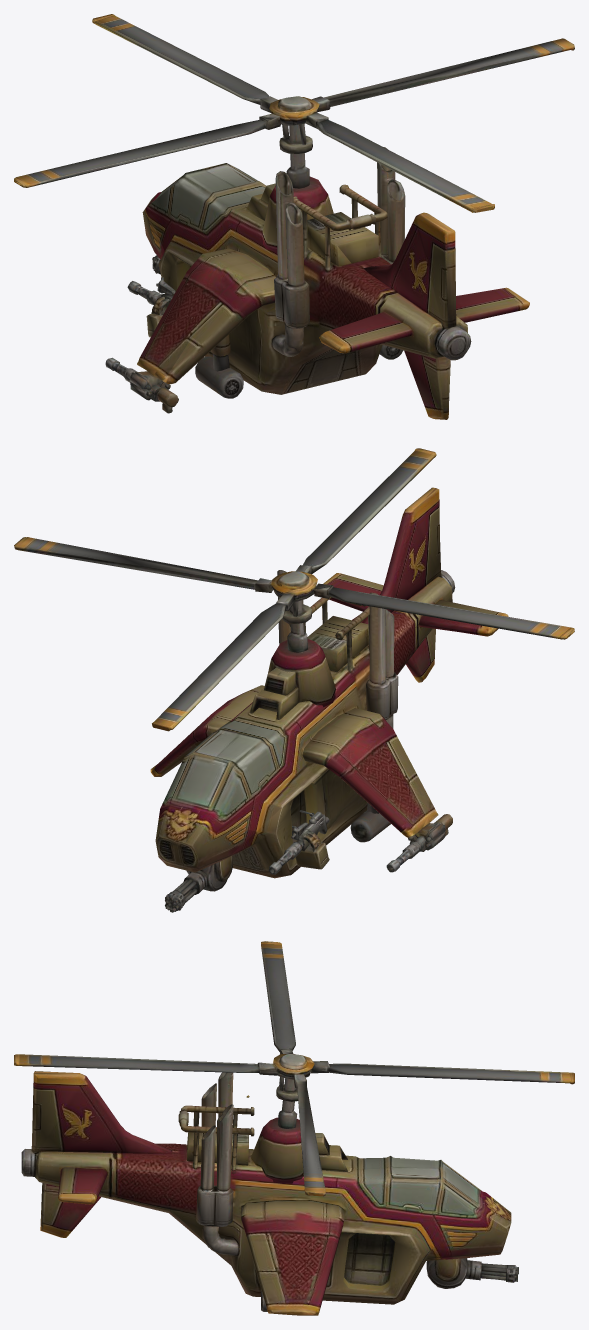
File: bullion_truck.glb
3 renders of one model, top to bottom at view 1: azimuth 30°, elevation 25°; view 2: azimuth 150°, elevation 25°; view 3: azimuth 270°, elevation 25°, orthographic. The views are drawn at different scales.
Parts seen in each view (by area): view 1: Body, Trim; view 2: Body, Trim; view 3: Body, Trim.
Part boxes in pixels (bbox=[...]): Body: bbox=[14, 14, 574, 419]; Trim: bbox=[14, 14, 574, 419]; Body: bbox=[14, 448, 574, 912]; Trim: bbox=[150, 450, 574, 854]; Body: bbox=[14, 941, 574, 1315]; Trim: bbox=[14, 941, 574, 1315].
Size of the model in its own units: 10.87 by 5.1 by 11.
Materials: 2 (2 with a texture image).
